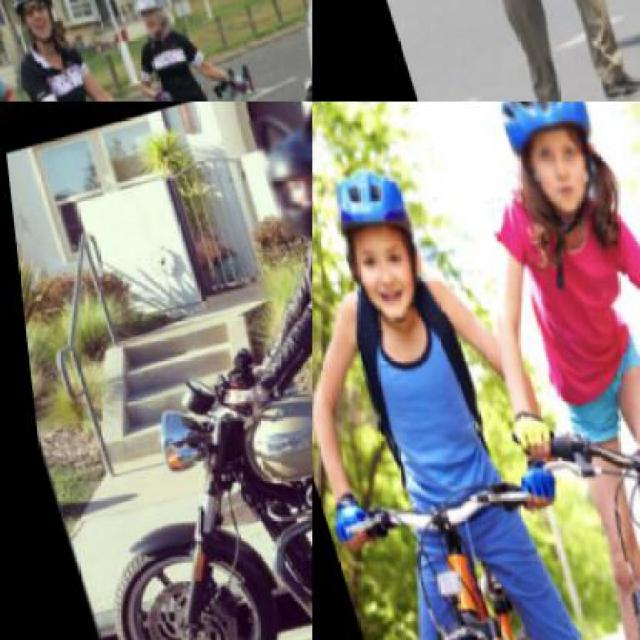With Helmet: (319, 156, 443, 338), (486, 101, 611, 228), (244, 102, 310, 246), (0, 0, 68, 60), (118, 0, 176, 49)
